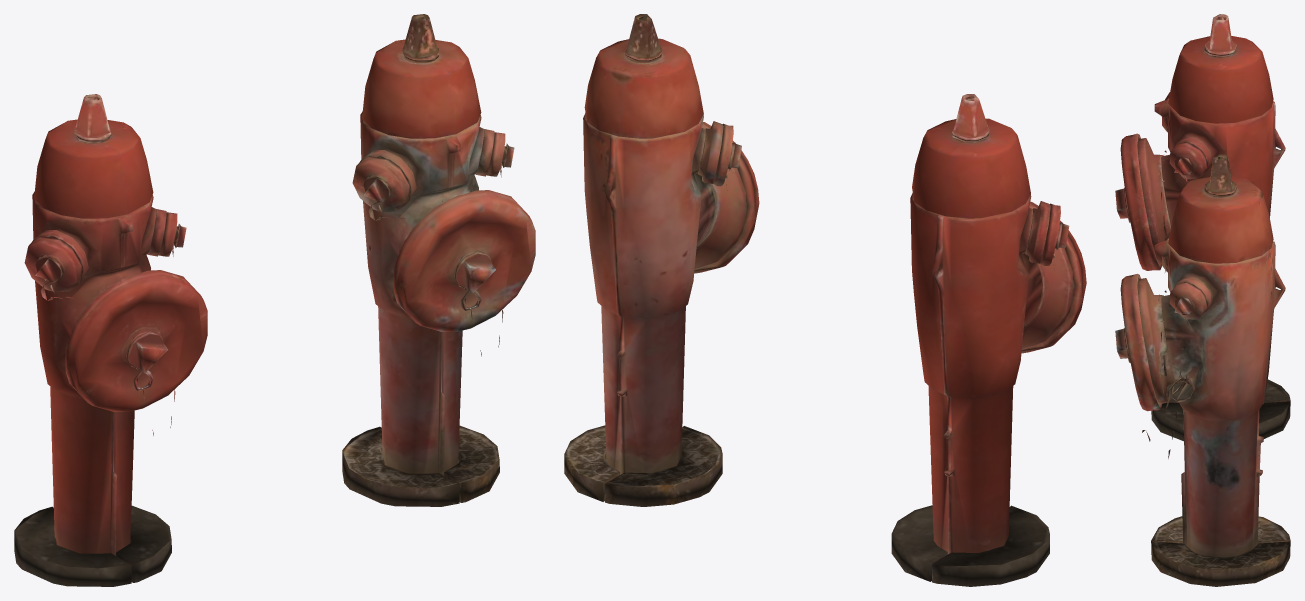
The model's file is fire_hydrant.glb.
3 views of the same model, side by side, from view 1: azimuth 30°, elevation 25°; view 2: azimuth 150°, elevation 25°; view 3: azimuth 270°, elevation 25° (orthographic). The views are drawn at different scales.
Parts seen in each view (by area): view 1: fire_hydrant_aged, fire_hydrant; view 2: fire_hydrant_aged, fire_hydrant; view 3: fire_hydrant_aged, fire_hydrant.
Boxes of the visible parts, x1,y1,x2,y2 form: fire_hydrant_aged: [342, 14, 535, 506]; fire_hydrant: [14, 94, 207, 586]; fire_hydrant_aged: [564, 14, 759, 506]; fire_hydrant: [891, 94, 1086, 586]; fire_hydrant_aged: [1115, 154, 1290, 586]; fire_hydrant: [1115, 14, 1290, 441].
Size of the model in its own units: 0.8728 by 0.7992 by 0.3173.
2 materials, 2 textured.
